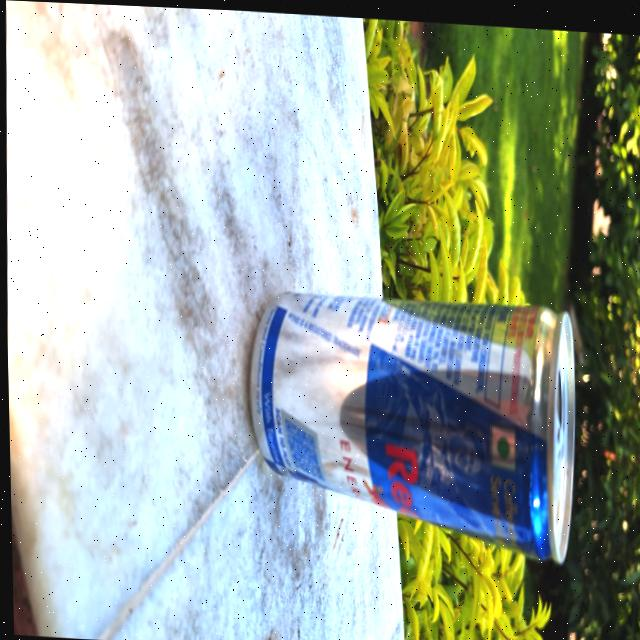Redbull DanceYourStyle: (240, 275, 576, 550)
